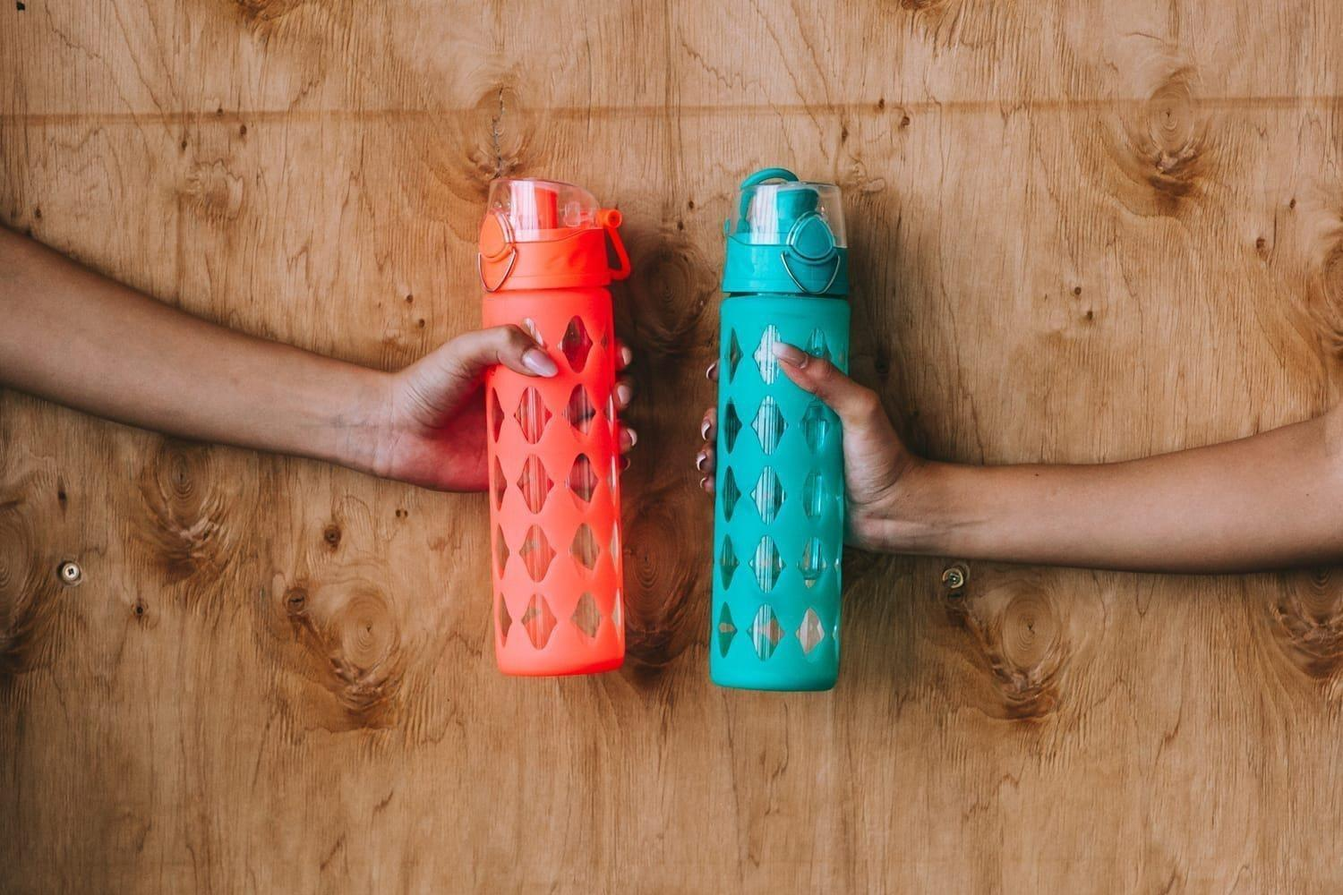gym bottle: (705, 156, 858, 695), (477, 171, 625, 676)
